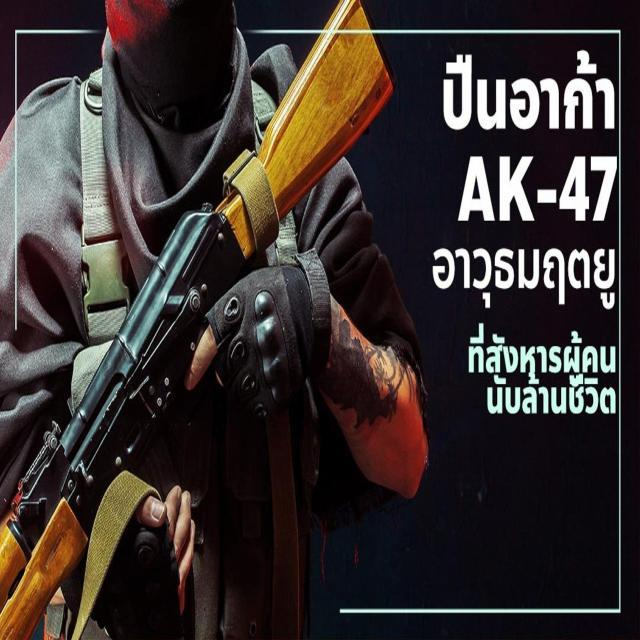ak: (18, 2, 396, 612)
